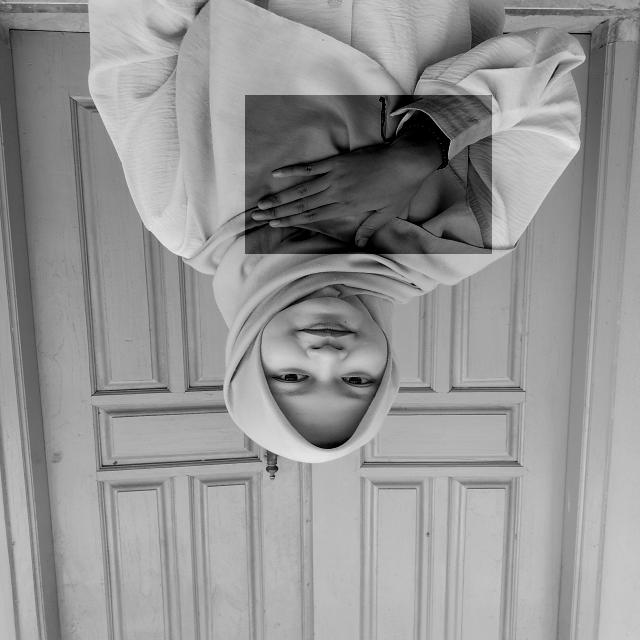tolong: (245, 95, 492, 254)
